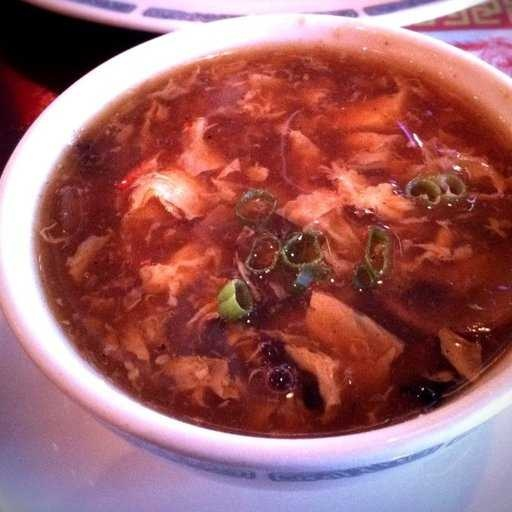soup: (42, 39, 503, 463)
